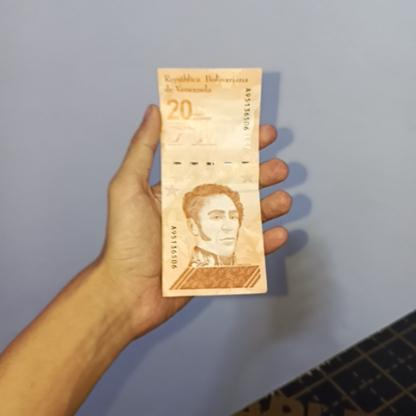vef_front: (158, 66, 267, 297)
